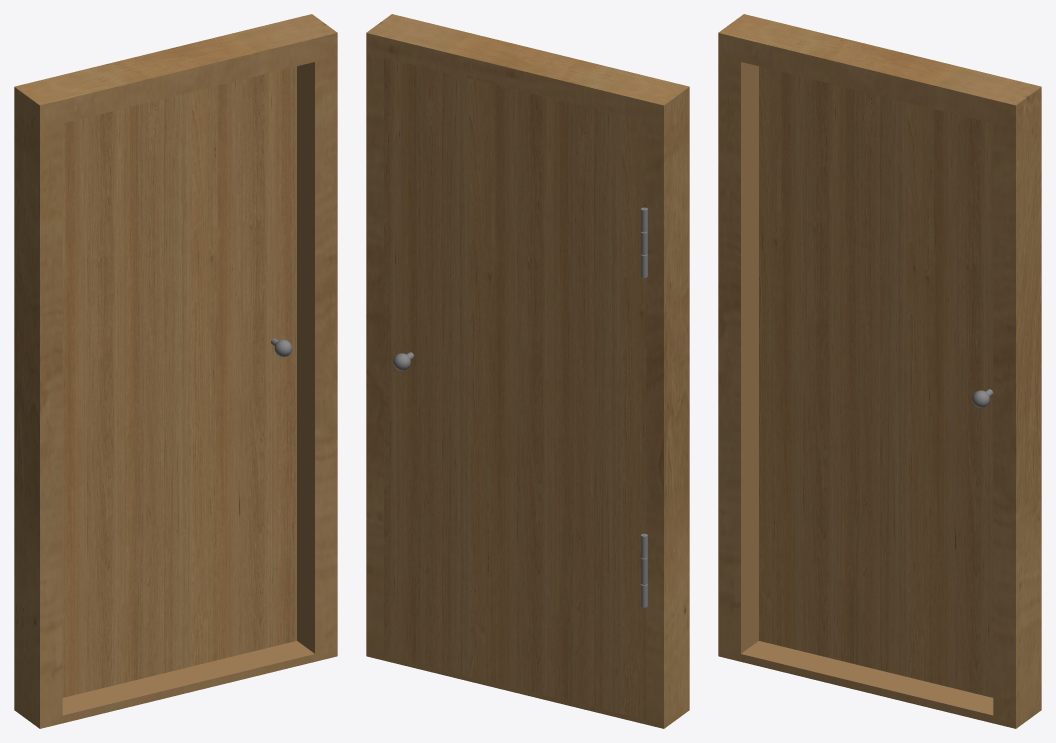
File: door4.dae
The picture shows the model from 3 angles, left to right: view 1: azimuth 30°, elevation 25°; view 2: azimuth 150°, elevation 25°; view 3: azimuth 330°, elevation 25°; orthographic projection.
Visible parts, largest first — view 1: Куб, Cube; view 2: Куб, Cube; view 3: Куб, Cube.
Part boxes in pixels (left/top/right/bottom): Куб: left=62, top=66, right=296, bottom=697; Cube: left=14, top=14, right=337, bottom=728; Куб: left=384, top=57, right=647, bottom=719; Cube: left=366, top=14, right=689, bottom=728; Куб: left=759, top=66, right=993, bottom=697; Cube: left=718, top=14, right=1041, bottom=728.
Size of the model in its own units: 2 by 0.4547 by 4.
Materials: 4 (2 with a texture image).
